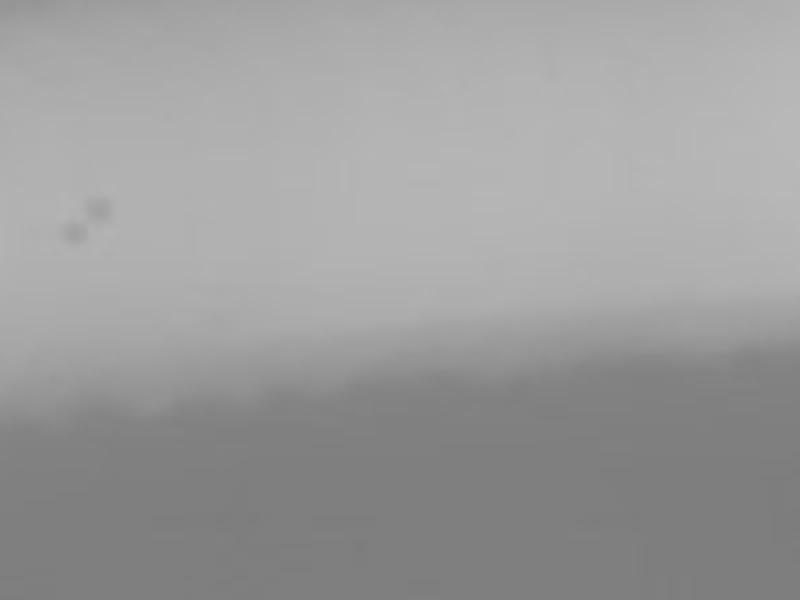defect: (87, 196, 109, 224), (62, 221, 88, 244)
